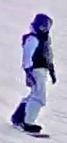snowboarder: (11, 13, 56, 139)
